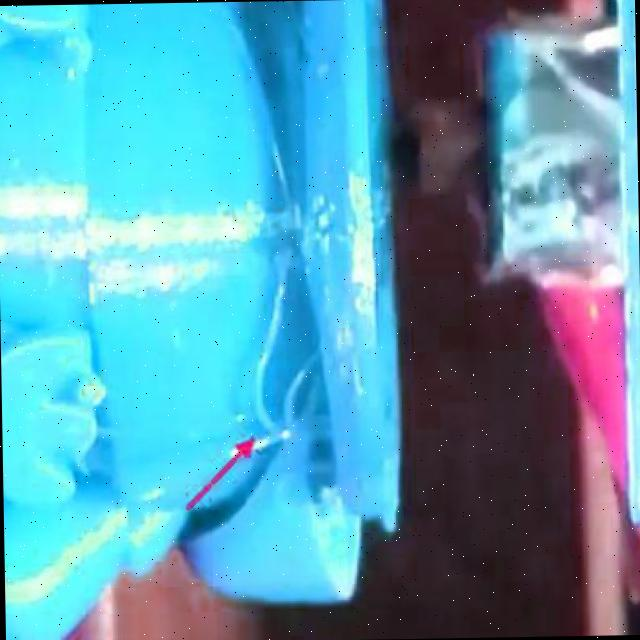spaghetti: (240, 224, 340, 443)
